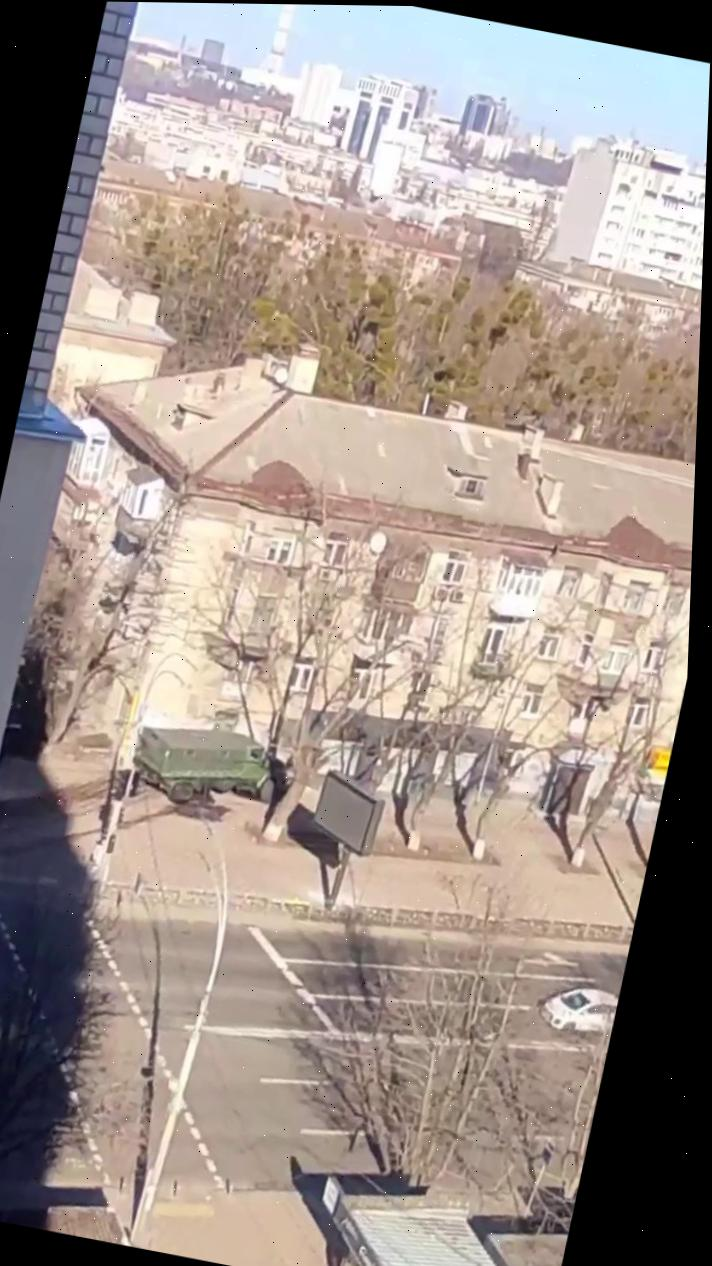car: (537, 979, 620, 1041)
truck: (126, 712, 300, 824)
